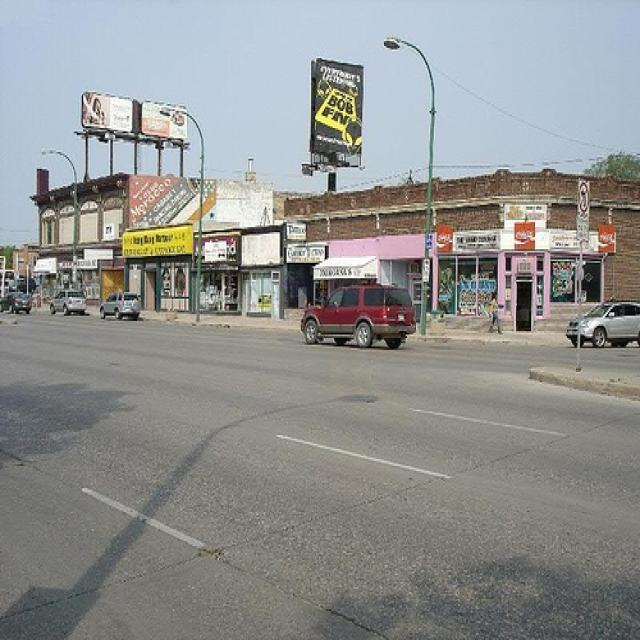car: (300, 280, 418, 353), (566, 295, 638, 350), (98, 288, 144, 326), (48, 289, 90, 319)
